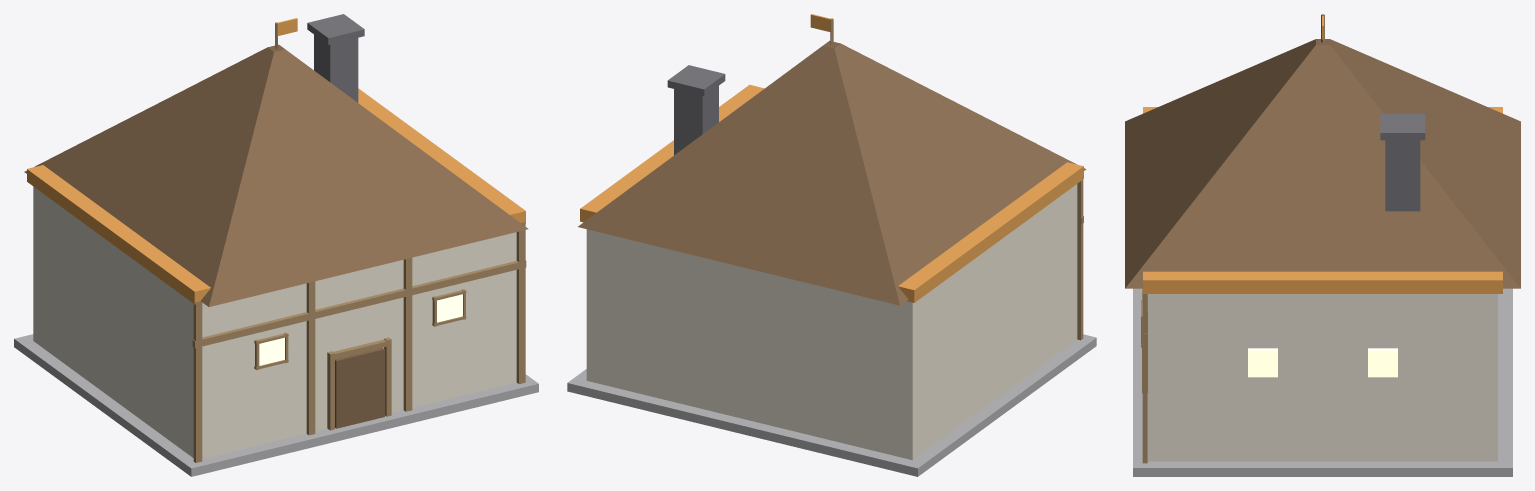
File: townhall_orange.glb
The picture shows the model from 3 angles, left to right: view 1: azimuth 30°, elevation 25°; view 2: azimuth 150°, elevation 25°; view 3: azimuth 270°, elevation 25°; orthographic projection. The views are drawn at different scales.
Parts seen in each view (by area): view 1: TownHall_orange; view 2: TownHall_orange; view 3: TownHall_orange.
Boxes of the visible parts, <box> form: TownHall_orange: <box>14,14,538,476</box>; TownHall_orange: <box>567,14,1096,476</box>; TownHall_orange: <box>1125,14,1520,476</box>.
Size of the model in its own units: 4.3 by 4.1 by 3.96.
